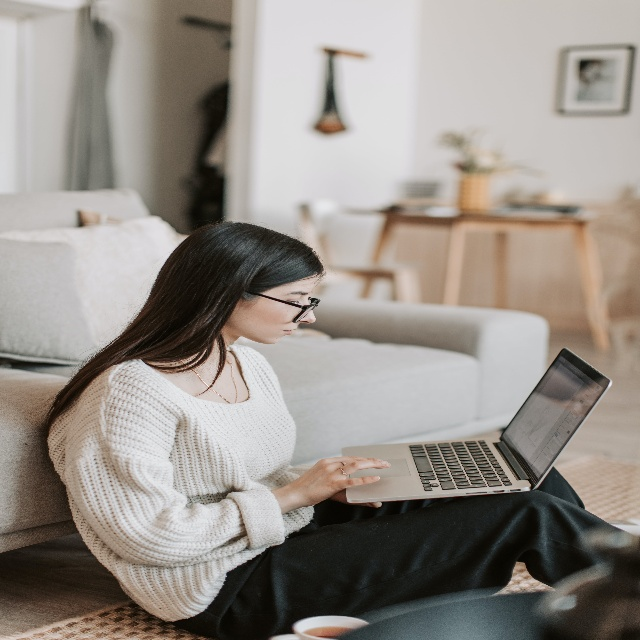Gafas: (245, 288, 320, 323)
Sin_guantes: (296, 458, 391, 506), (330, 487, 382, 508)
